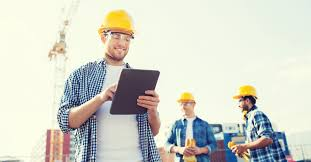helmet: (99, 10, 135, 34), (236, 83, 259, 96), (176, 90, 195, 102)
